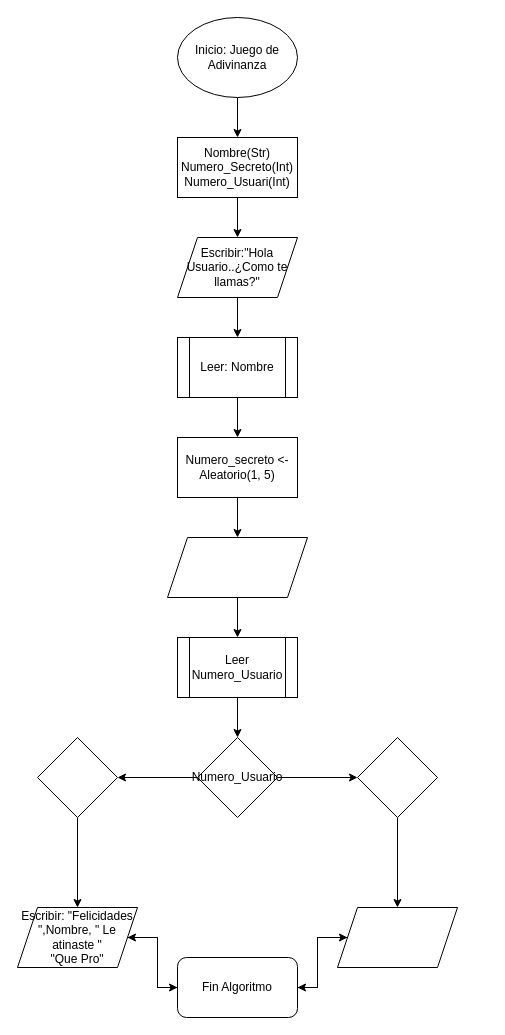
The diagram is 505 pixels wide and 1035 high, and some of its shapes have lost their labels. The shapes that lost their labels are listed below. From the top down, each one's box as (x1, y1, x2, y2) in pixels, then its label:
(166, 536, 308, 598): Escribir " Hola ",Nombre, " Estoy pensando en un numero, adivina cual es"
(36, 736, 118, 818): Numero_Usuario Verdadero
(356, 736, 438, 818): Numero_Usuario Falso
(336, 906, 458, 968): Escribir:"Lo siento el numero secreto era el: "+ ConvertirATexto(Numero_secreto)
